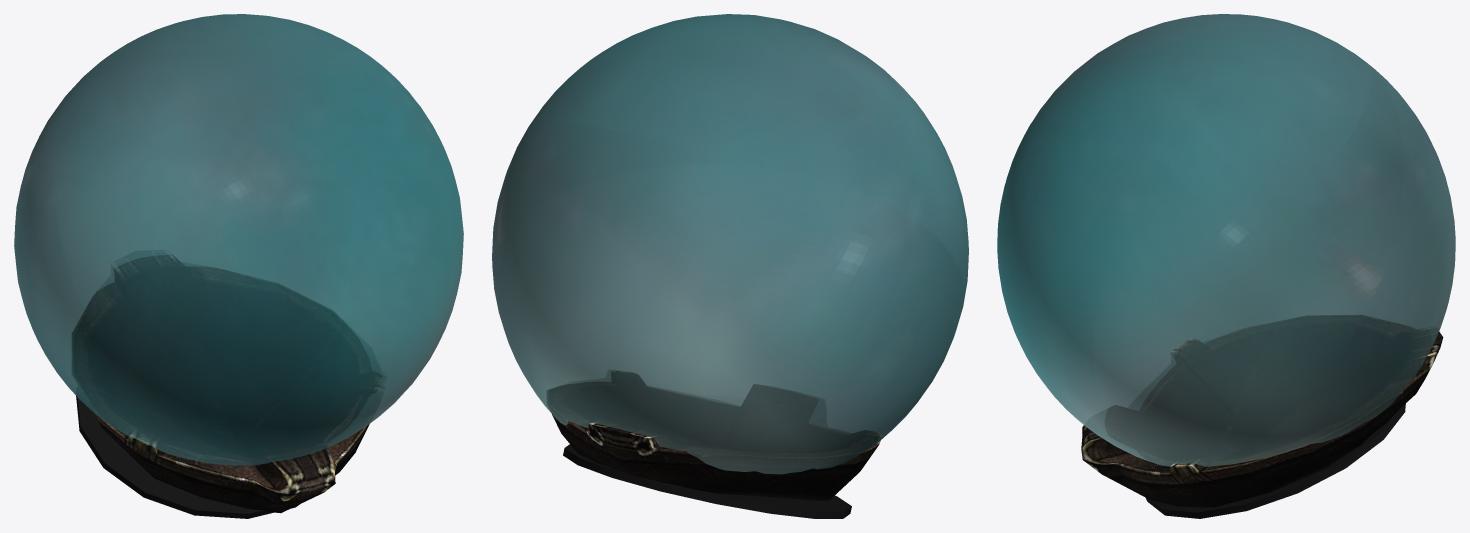
File: mysterio_helmet_improved.glb
3 views of the same model, side by side, from view 1: azimuth 30°, elevation 25°; view 2: azimuth 150°, elevation 25°; view 3: azimuth 270°, elevation 25° (orthographic). The views are drawn at different scales.
Visible parts, largest first — view 1: myasterio_helmet, mysterio_, Down; view 2: myasterio_helmet, mysterio_, Down; view 3: myasterio_helmet, mysterio_, Down.
Part boxes in pixels (<box>): myasterio_helmet: <box>14,14,463,465</box>; mysterio_: <box>72,255,382,513</box>; Down: <box>76,395,299,518</box>; myasterio_helmet: <box>492,14,968,474</box>; mysterio_: <box>547,370,881,500</box>; Down: <box>563,444,851,518</box>; myasterio_helmet: <box>997,14,1455,466</box>; mysterio_: <box>1081,315,1443,507</box>; Down: <box>1146,403,1405,518</box>.
Bounding box in the file's own units: 2.71 × 2.99 × 2.71.
Materials: 3 (2 with a texture image).
